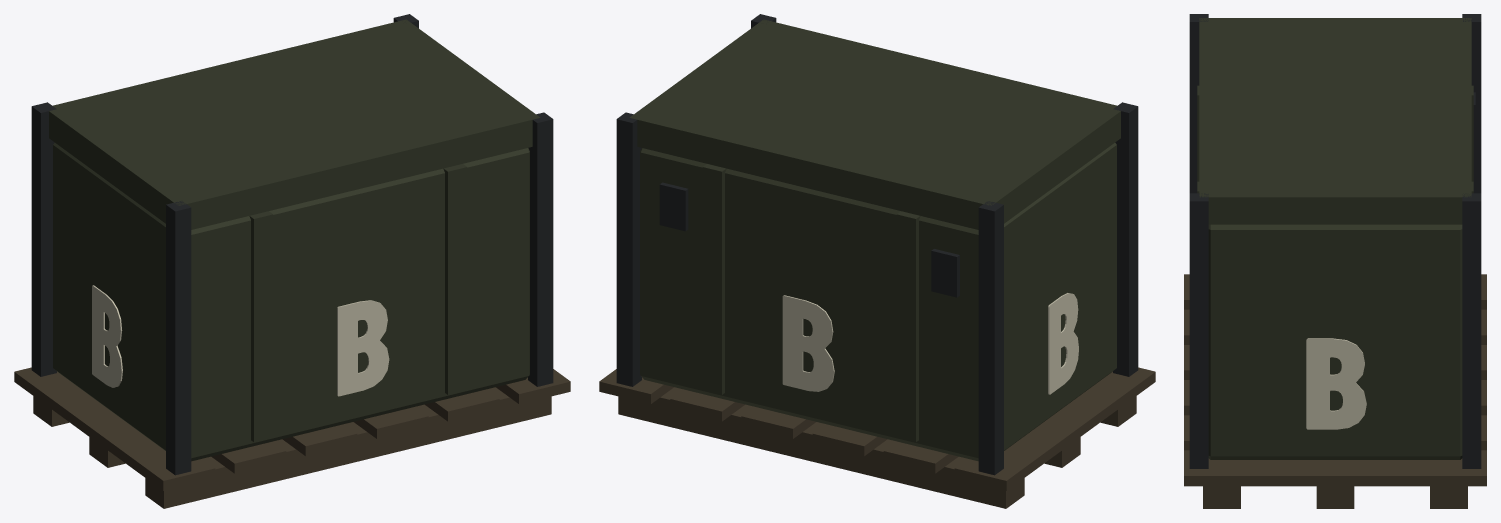
The model's file is charge_site_b.gltf.
3 views of the same model, side by side, from view 1: azimuth 30°, elevation 25°; view 2: azimuth 150°, elevation 25°; view 3: azimuth 270°, elevation 25° (orthographic).
Visible parts, largest first — view 1: charge_site_b; view 2: charge_site_b; view 3: charge_site_b.
Boxes of the visible parts, <box> form: charge_site_b: <box>14,14,570,508</box>; charge_site_b: <box>599,14,1155,508</box>; charge_site_b: <box>1184,14,1486,508</box>.
Size of the model in its own units: 1.26 by 0.89 by 0.8.
